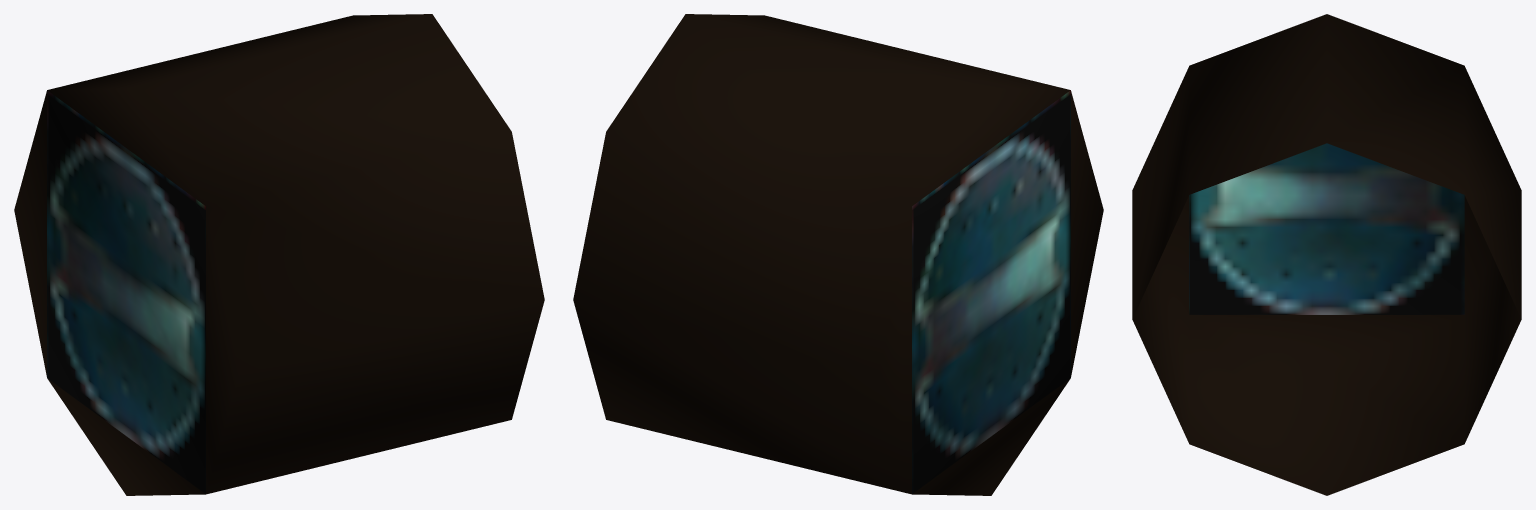
Rendered from WheelRearR.obj.
3 views of the same model, side by side, from view 1: azimuth 30°, elevation 25°; view 2: azimuth 150°, elevation 25°; view 3: azimuth 270°, elevation 25° (orthographic). The views are drawn at different scales.
Parts seen in each view (by area): view 1: WheelRearR; view 2: WheelRearR; view 3: WheelRearR.
Boxes of the visible parts, x1,y1,x2,y2 form: WheelRearR: (14, 14, 544, 495); WheelRearR: (573, 14, 1103, 495); WheelRearR: (1132, 14, 1521, 495).
Size of the model in its own units: 0.88 by 1.12 by 1.12.
Materials: 2 (1 with a texture image).
